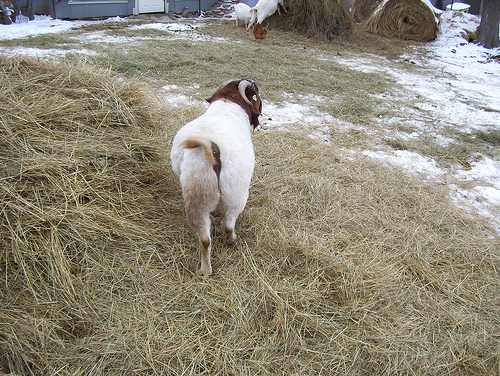goat: (170, 77, 264, 278), (253, 1, 289, 24), (230, 2, 256, 32)
